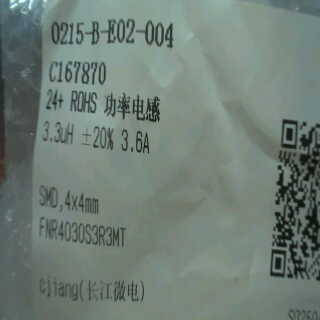3.3uH: (35, 115, 81, 153)
